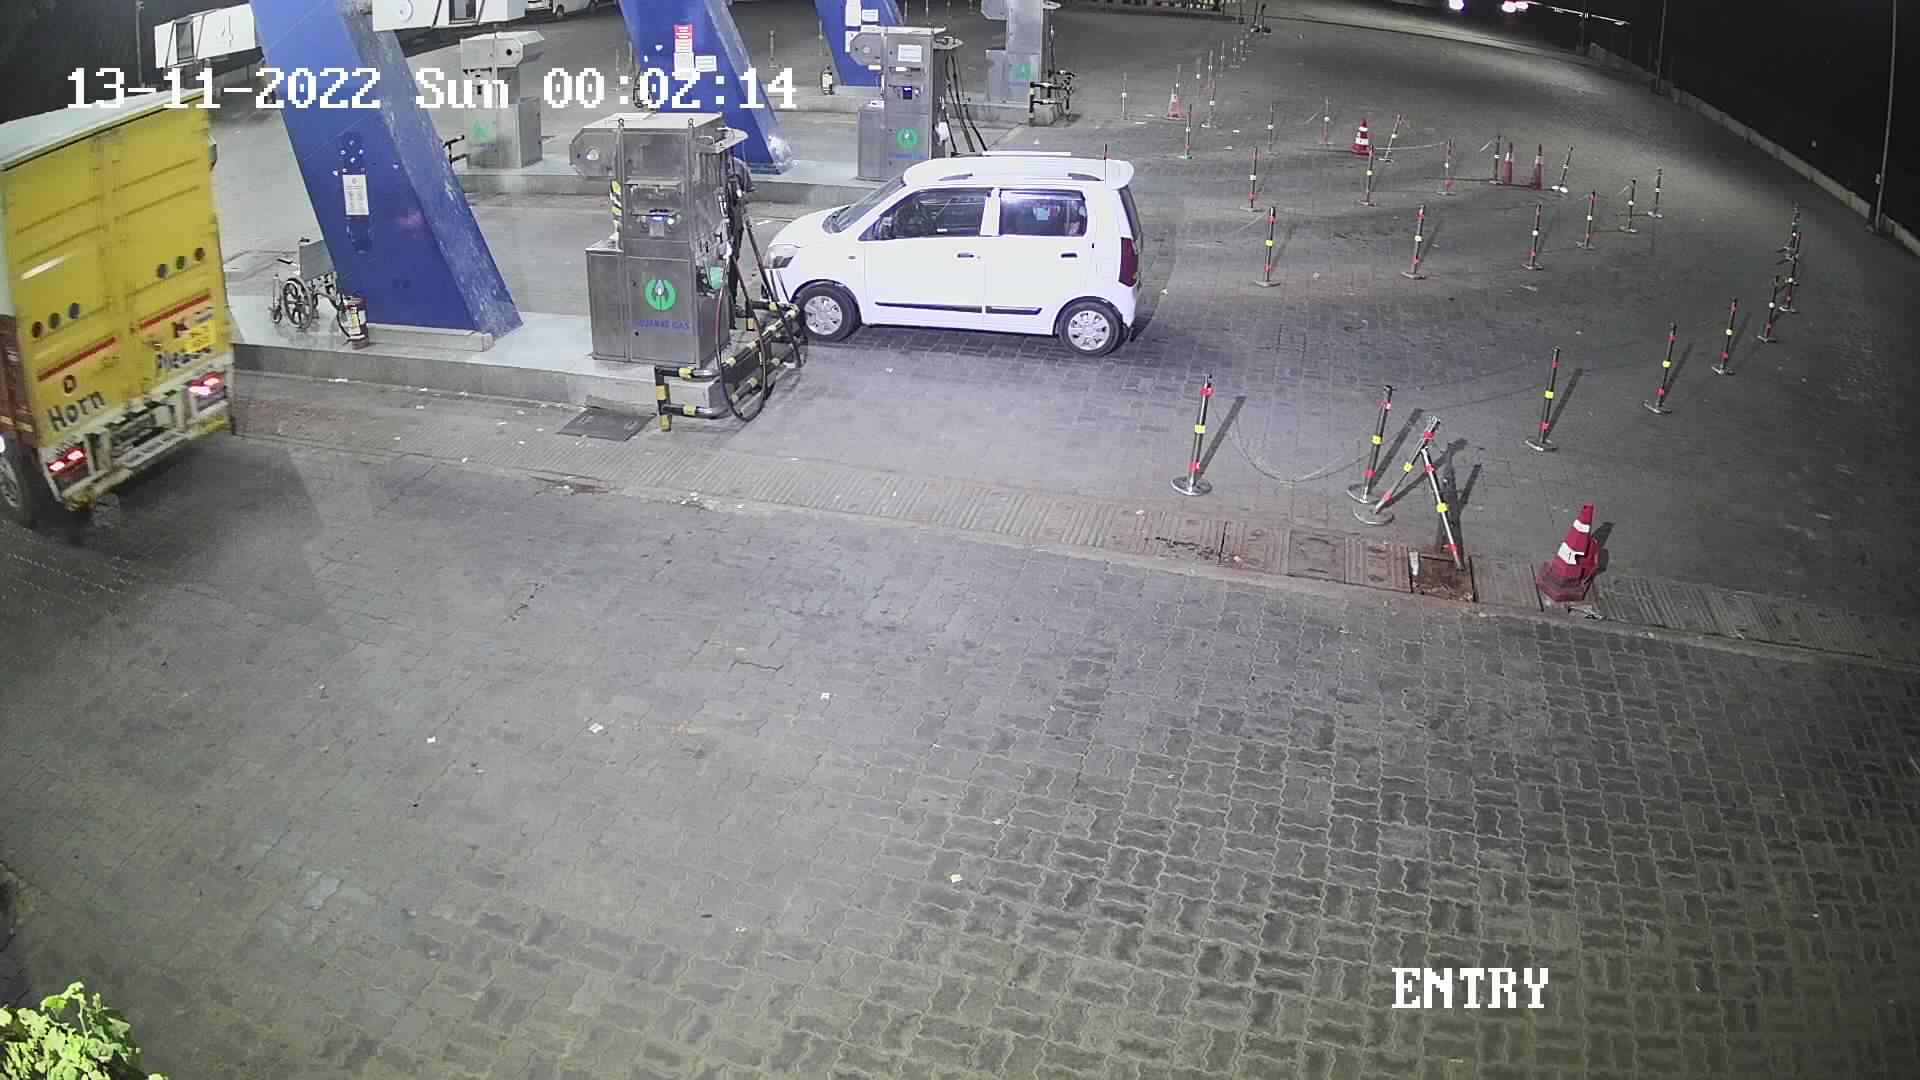Car: (754, 140, 1151, 368)
HMV: (0, 90, 256, 530)
